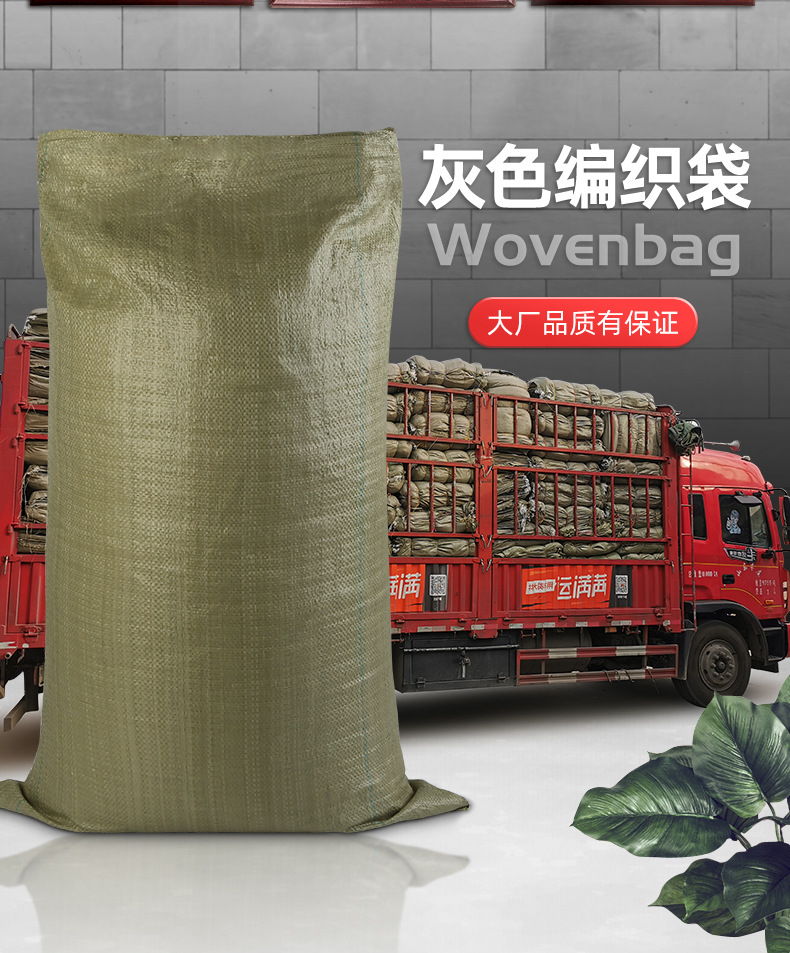塑料袋: (0, 132, 469, 833)
